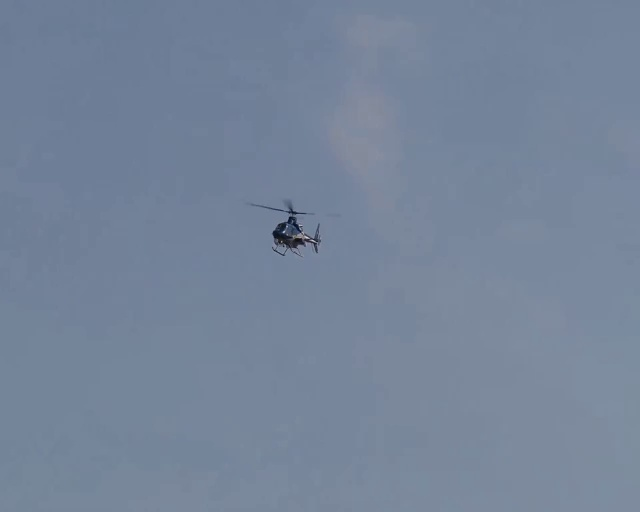HELICOPTER: (244, 197, 330, 258)
